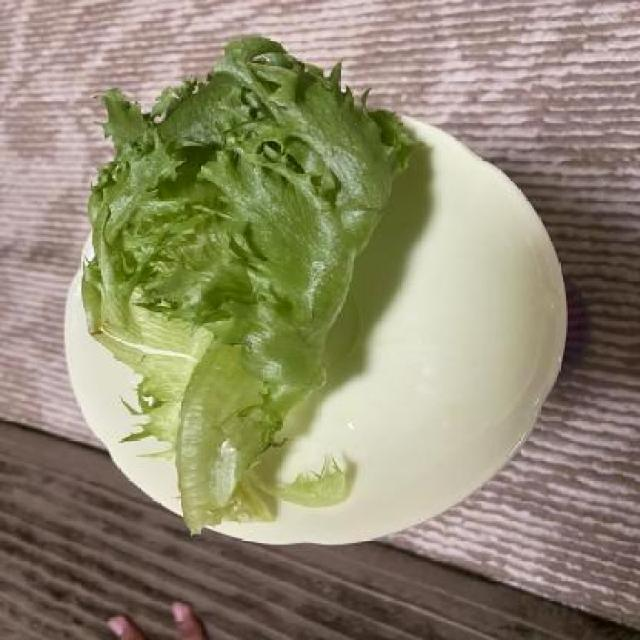Lettuce: (84, 26, 412, 542)
